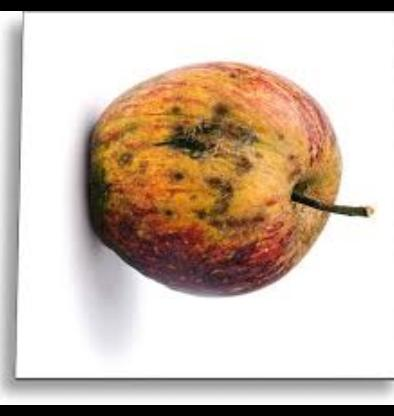defect: (82, 100, 270, 308)
